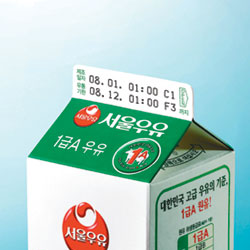milk: (26, 64, 235, 250)
